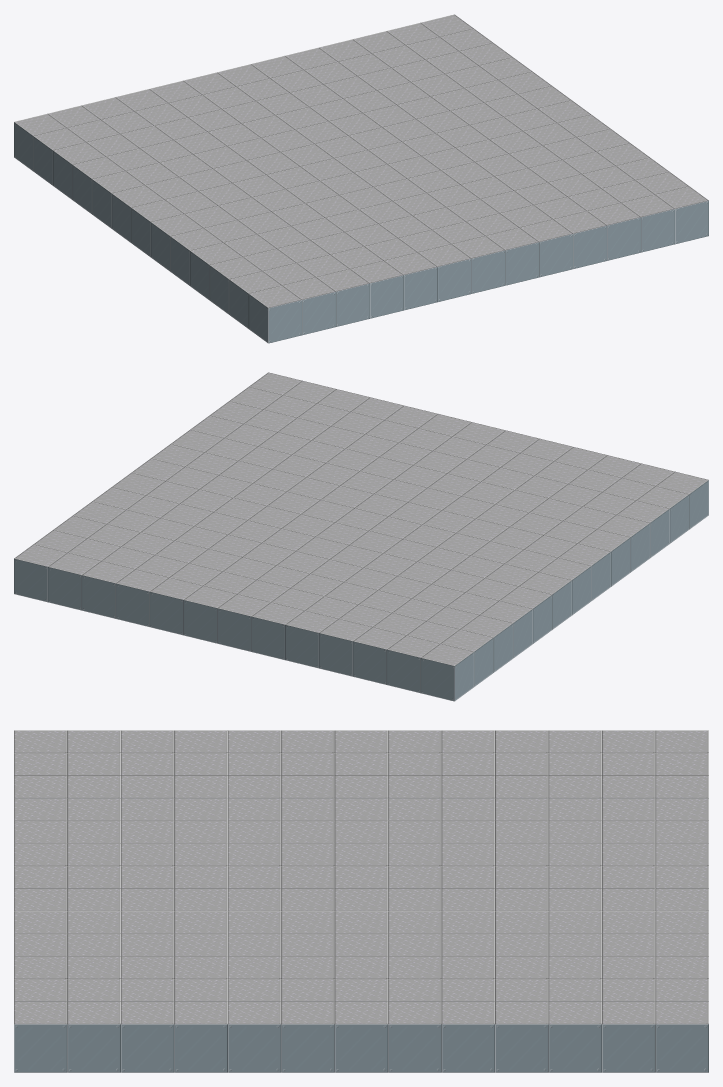
Rendered from level_zone01_13-13.fbx.
The picture shows the model from 3 angles, top to bottom: view 1: azimuth 30°, elevation 25°; view 2: azimuth 150°, elevation 25°; view 3: azimuth 270°, elevation 25°; orthographic projection. The views are drawn at different scales.
Visible parts, largest first — view 1: level_zone01_13-13; view 2: level_zone01_13-13; view 3: level_zone01_13-13.
Part boxes in pixels (box(x1,y1,x2,y2)): level_zone01_13-13: box(14, 14, 708, 343); level_zone01_13-13: box(14, 372, 708, 701); level_zone01_13-13: box(14, 730, 708, 1072).
Bounding box in the file's own units: 1300 × 100 × 1300.
